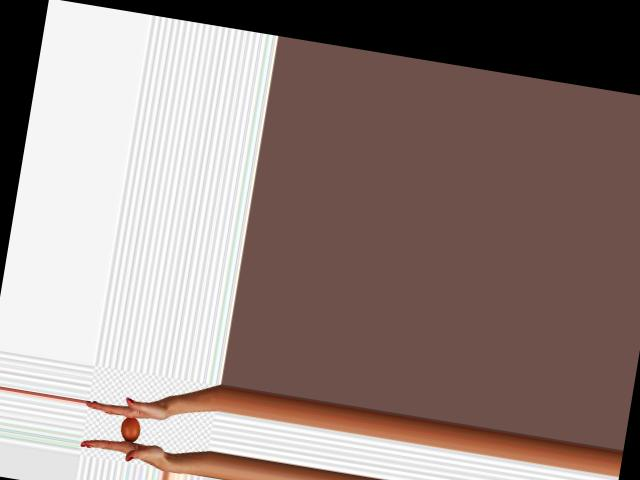egg: (120, 415, 142, 442)
